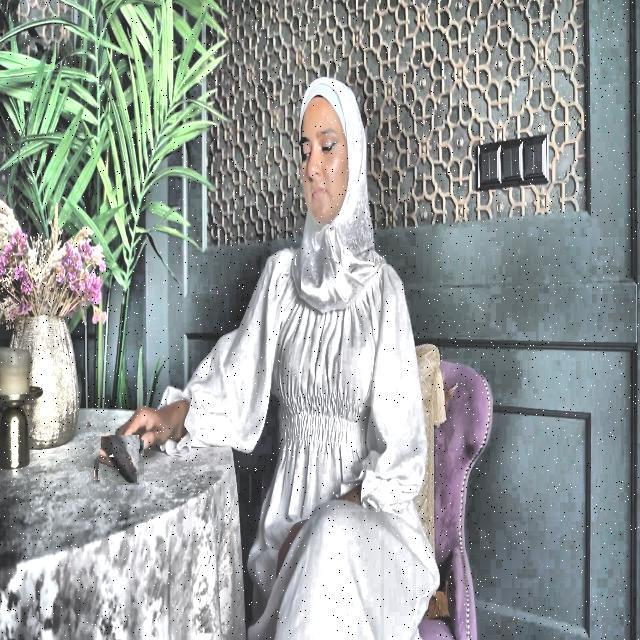Phone: (96, 437, 142, 483)
